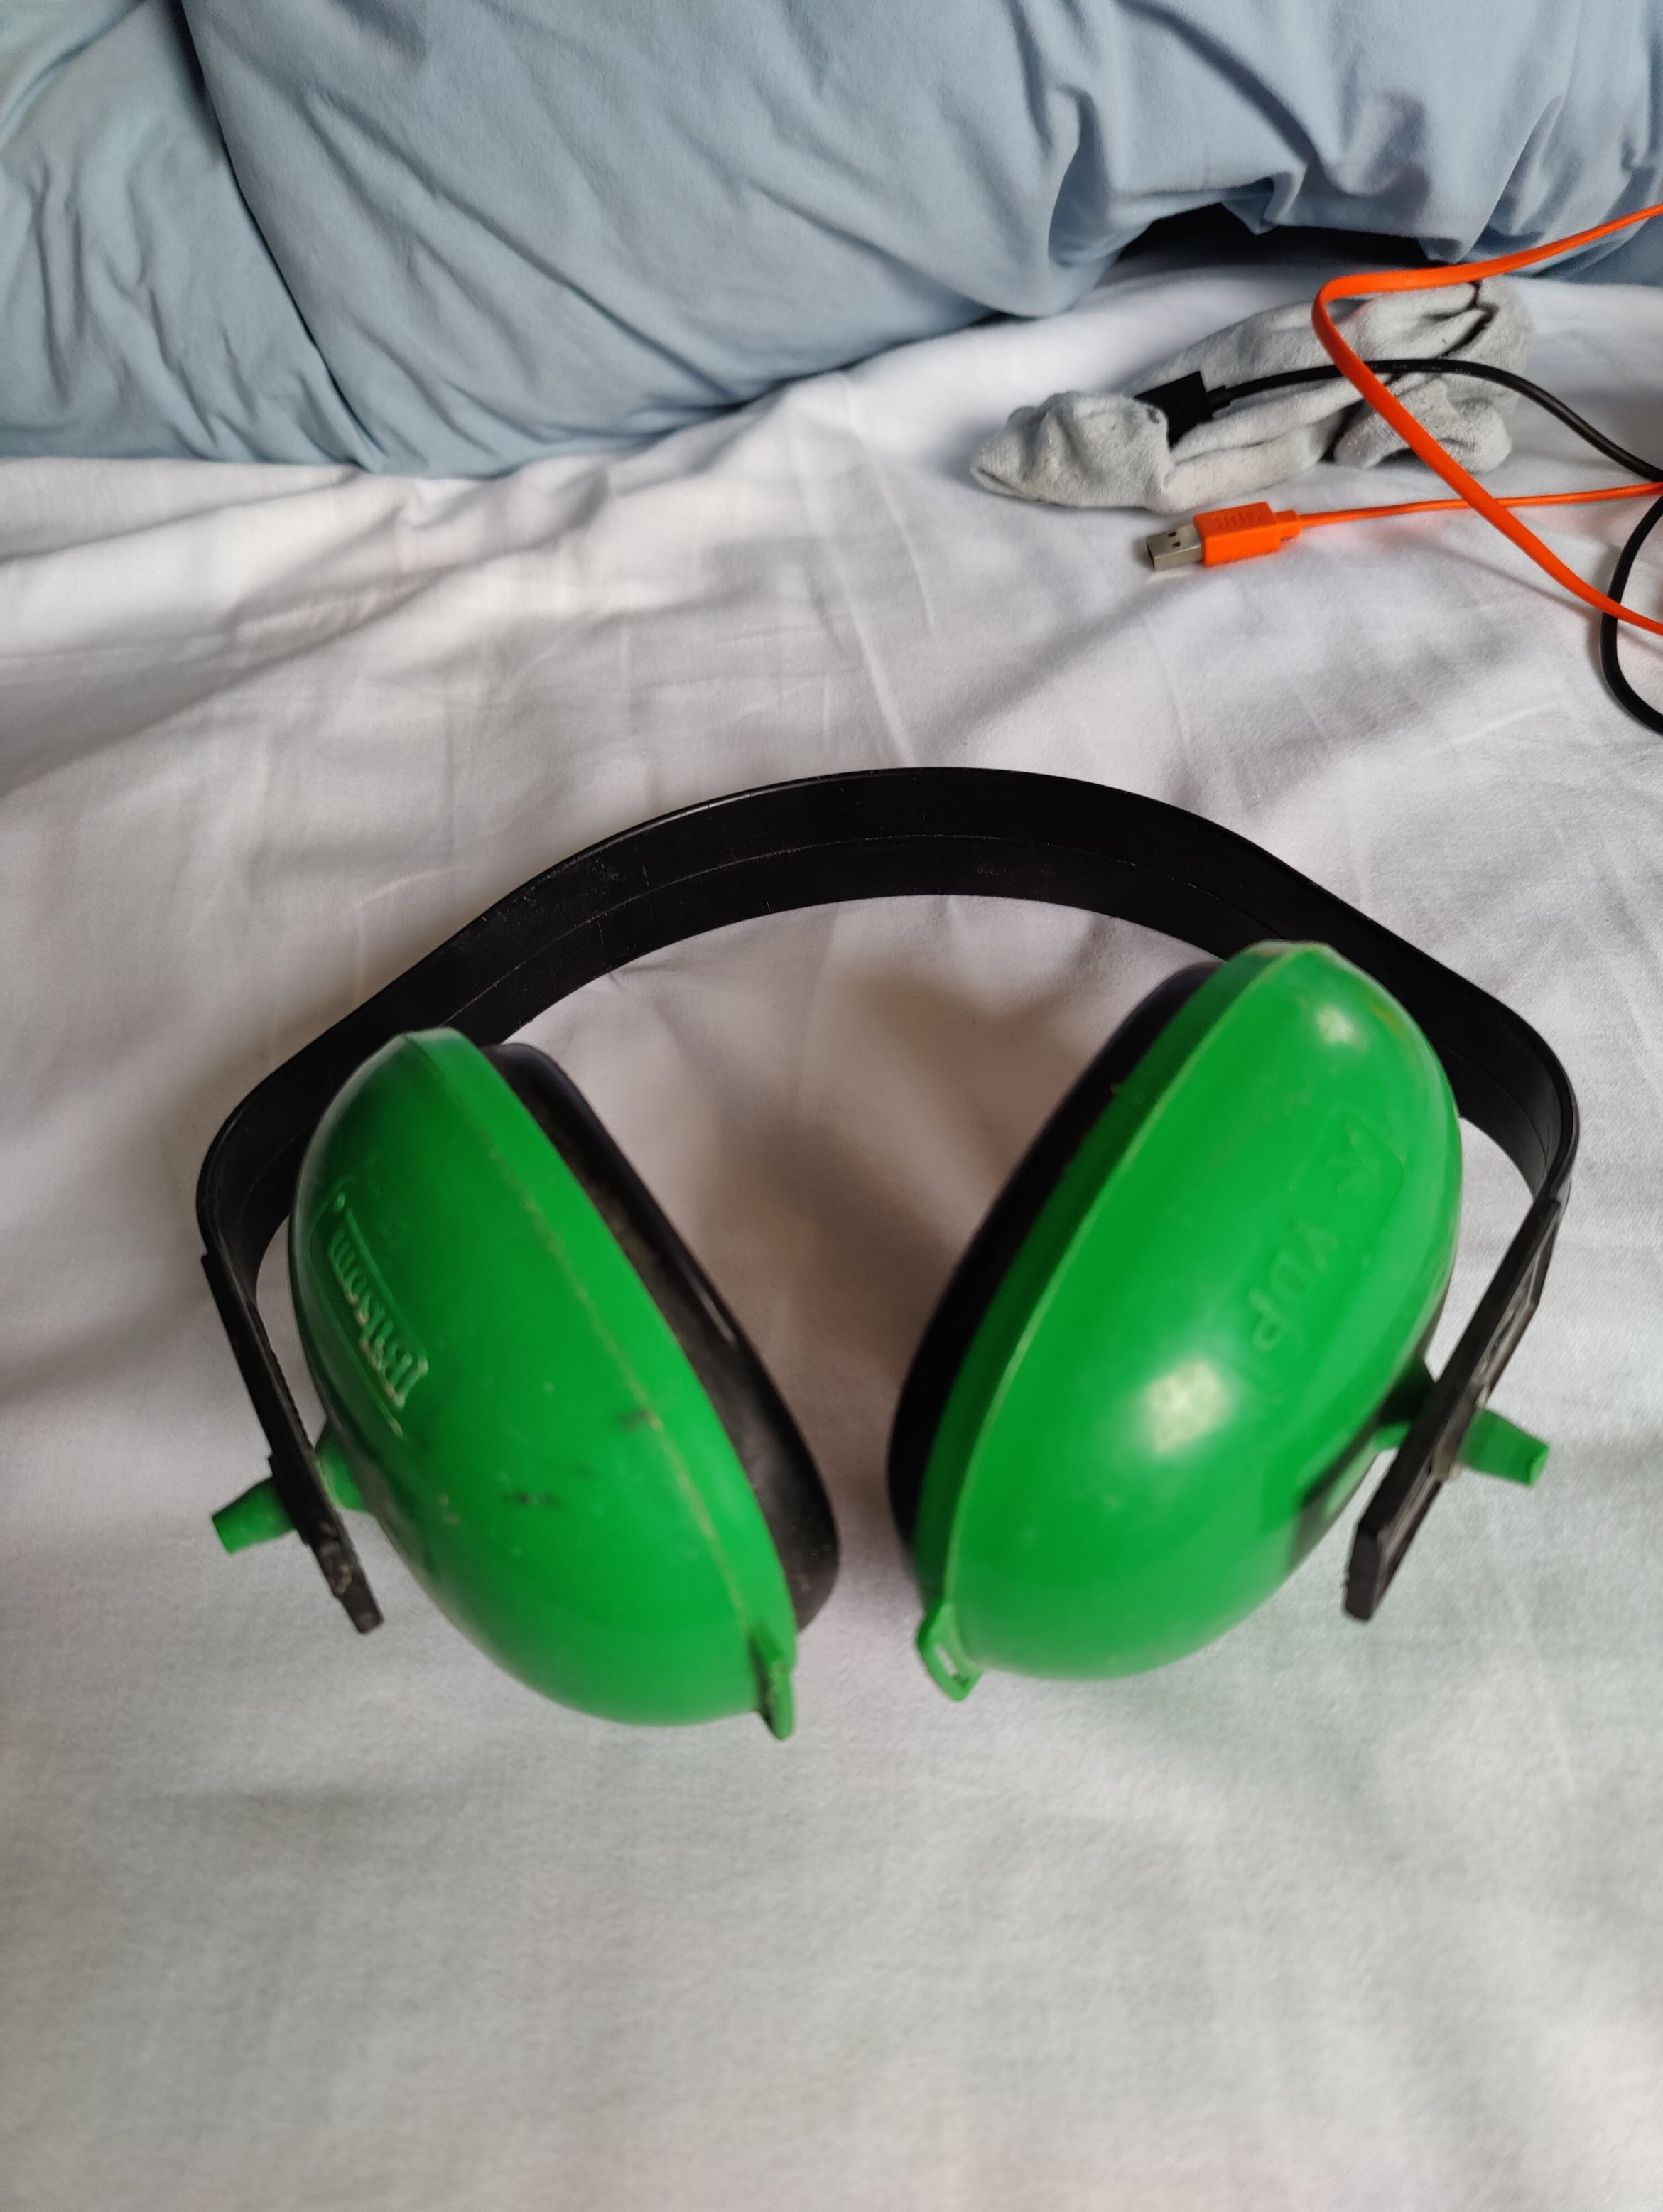headphones: (206, 797, 1586, 1728)
